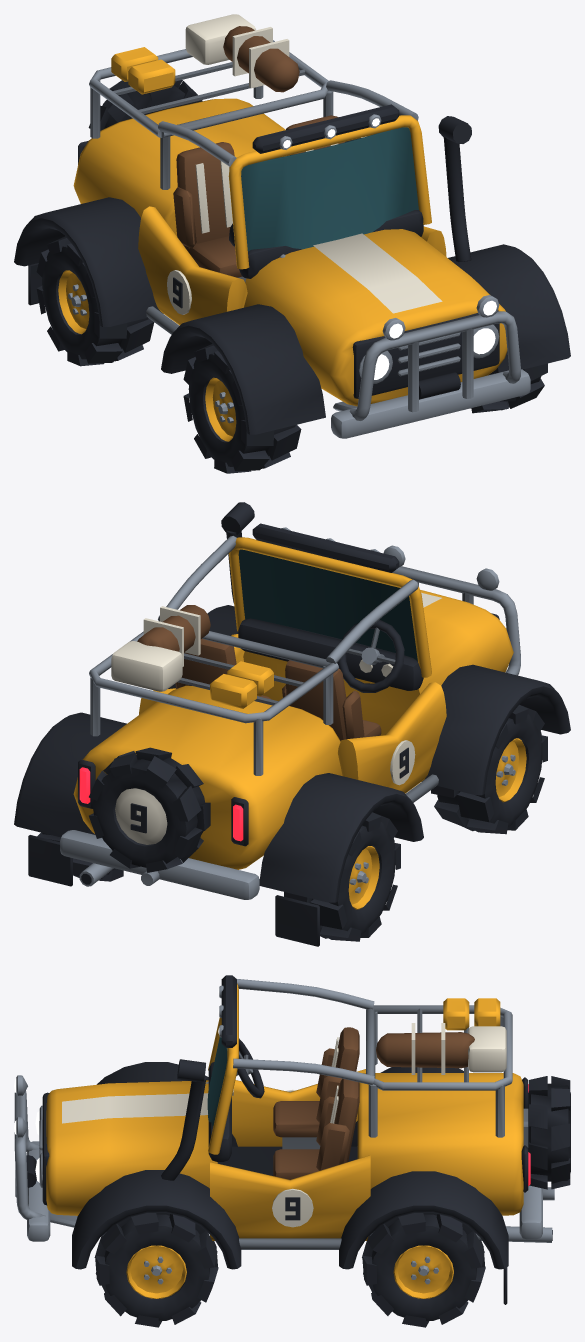
Rendered from car-expedition.glb.
3 renders of one model, top to bottom at view 1: azimuth 30°, elevation 25°; view 2: azimuth 150°, elevation 25°; view 3: azimuth 270°, elevation 25°, orthographic. The views are drawn at different scales.
Visible parts, largest first — view 1: Expedition 4x4 Trail rubber, Expedition 4x4 Expedition gold, Expedition 4x4 Gunmetal, Expedition 4x4 Smoked teal, Expedition 4x4 Rally ivory, Expedition 4x4 Seat fabric, Tire tread, Tire tread.001, Expedition 4x4 Headlamp glow, Rim.001, Rim, Tire tread.002; view 2: Expedition 4x4 Trail rubber, Expedition 4x4 Expedition gold, Expedition 4x4 Gunmetal, Expedition 4x4 Smoked teal, Expedition 4x4 Rally ivory, Expedition 4x4 Seat fabric, Tire tread, Tire tread.001, Rim, Rim.001, Expedition 4x4 Tail lamp ruby, Tire tread.003; view 3: Expedition 4x4 Expedition gold, Expedition 4x4 Trail rubber, Expedition 4x4 Gunmetal, Expedition 4x4 Seat fabric, Tire tread.002, Tire tread.003, Expedition 4x4 Rally ivory, Rim.003, Rim.002, Expedition 4x4 Smoked teal.
Part boxes in pixels (left/top/right/bottom): Expedition 4x4 Trail rubber: left=14, top=80, right=570, bottom=434; Expedition 4x4 Expedition gold: left=73, top=47, right=507, bottom=406; Expedition 4x4 Gunmetal: left=89, top=40, right=530, bottom=438; Expedition 4x4 Smoked teal: left=241, top=127, right=418, bottom=251; Expedition 4x4 Rally ivory: left=167, top=14, right=442, bottom=314; Expedition 4x4 Seat fabric: left=173, top=26, right=344, bottom=277; Tire tread: left=183, top=344, right=301, bottom=473; Tire tread.001: left=36, top=236, right=154, bottom=366; Expedition 4x4 Headlamp glow: left=283, top=118, right=496, bottom=379; Rim.001: left=58, top=270, right=89, bottom=334; Rim: left=205, top=377, right=236, bottom=441; Tire tread.002: left=470, top=363, right=547, bottom=413; Expedition 4x4 Trail rubber: left=14, top=502, right=570, bottom=946; Expedition 4x4 Expedition gold: left=73, top=537, right=513, bottom=869; Expedition 4x4 Gunmetal: left=60, top=527, right=520, bottom=899; Expedition 4x4 Smoked teal: left=238, top=549, right=417, bottom=661; Expedition 4x4 Rally ivory: left=111, top=592, right=441, bottom=844; Expedition 4x4 Seat fabric: left=137, top=605, right=381, bottom=741; Tire tread: left=431, top=704, right=547, bottom=834; Tire tread.001: left=284, top=812, right=400, bottom=941; Rim: left=495, top=738, right=526, bottom=802; Rim.001: left=348, top=846, right=379, bottom=909; Expedition 4x4 Tail lamp ruby: left=79, top=767, right=243, bottom=841; Tire tread.003: left=37, top=832, right=123, bottom=881; Expedition 4x4 Expedition gold: left=46, top=983, right=523, bottom=1240; Expedition 4x4 Trail rubber: left=26, top=975, right=570, bottom=1304; Expedition 4x4 Gunmetal: left=14, top=978, right=554, bottom=1249; Expedition 4x4 Seat fabric: left=273, top=1027, right=474, bottom=1179; Tire tread.002: left=94, top=1213, right=218, bottom=1327; Tire tread.003: left=362, top=1213, right=485, bottom=1327; Expedition 4x4 Rally ivory: left=62, top=1023, right=506, bottom=1227; Rim.003: left=393, top=1245, right=453, bottom=1298; Rim.002: left=126, top=1245, right=186, bottom=1298; Expedition 4x4 Smoked teal: left=207, top=1037, right=227, bottom=1127.
Size of the model in its own units: 2.6 by 2.2 by 4.29.
